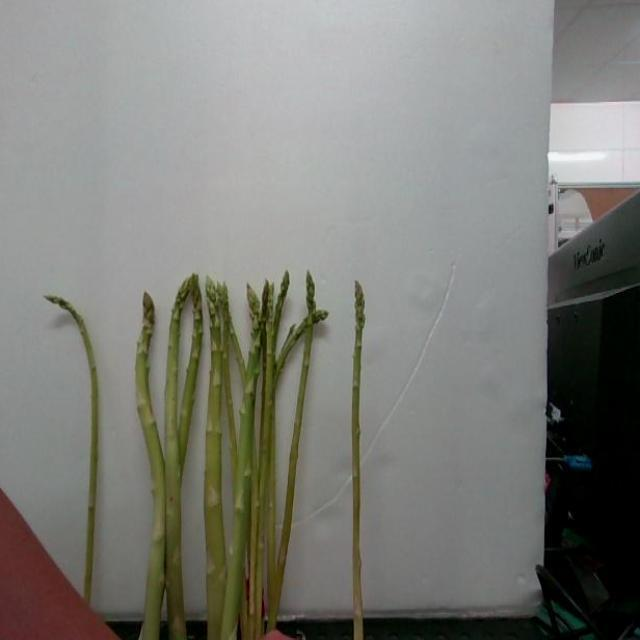aspargus: (40, 295, 103, 605), (131, 289, 170, 639), (352, 282, 367, 640)
